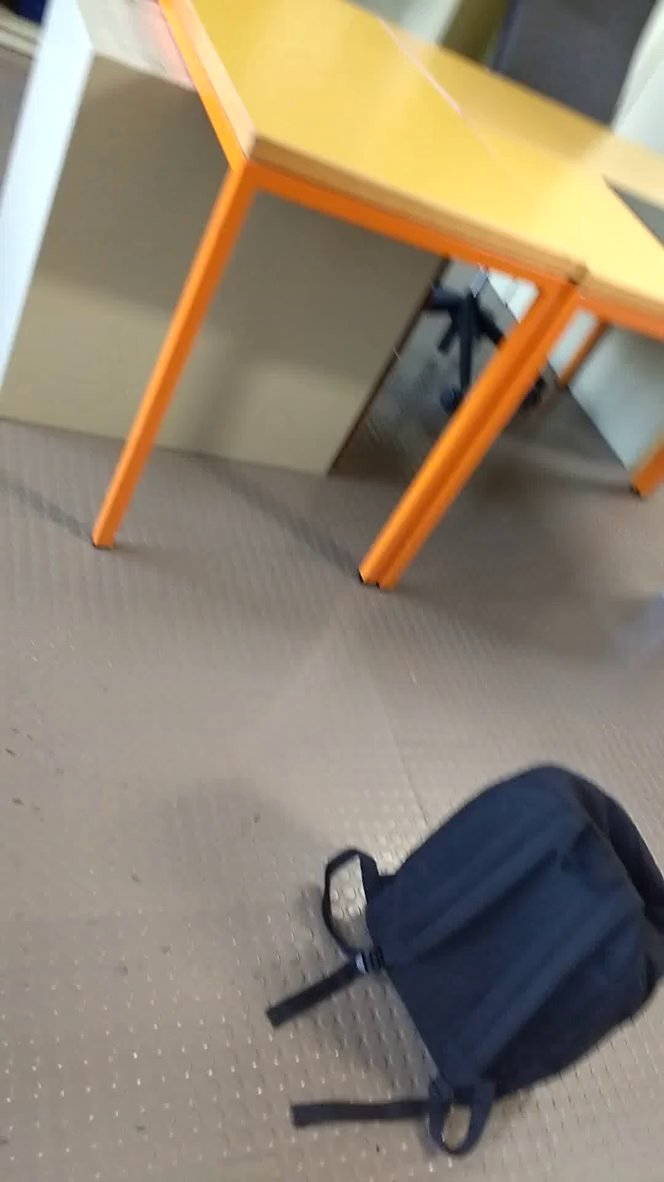bag: (260, 756, 664, 1166)
